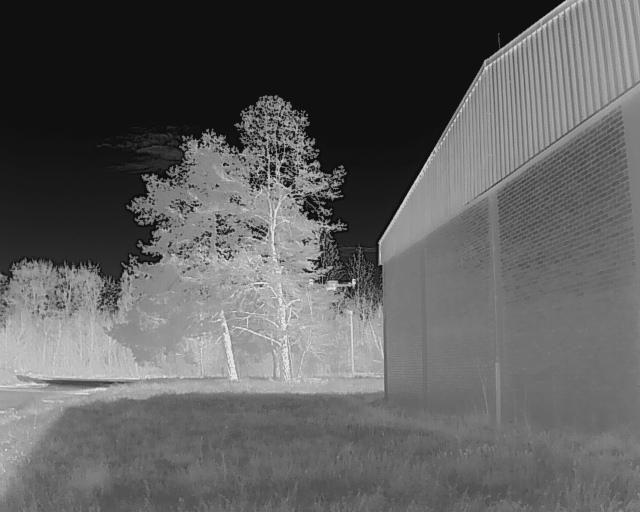drone: (302, 273, 356, 307)
